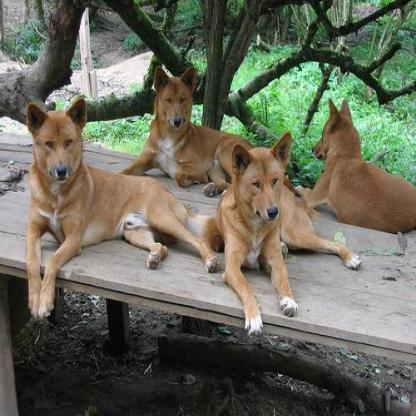dingo: (26, 96, 222, 316), (216, 130, 361, 336), (115, 64, 297, 196), (293, 95, 414, 232)
